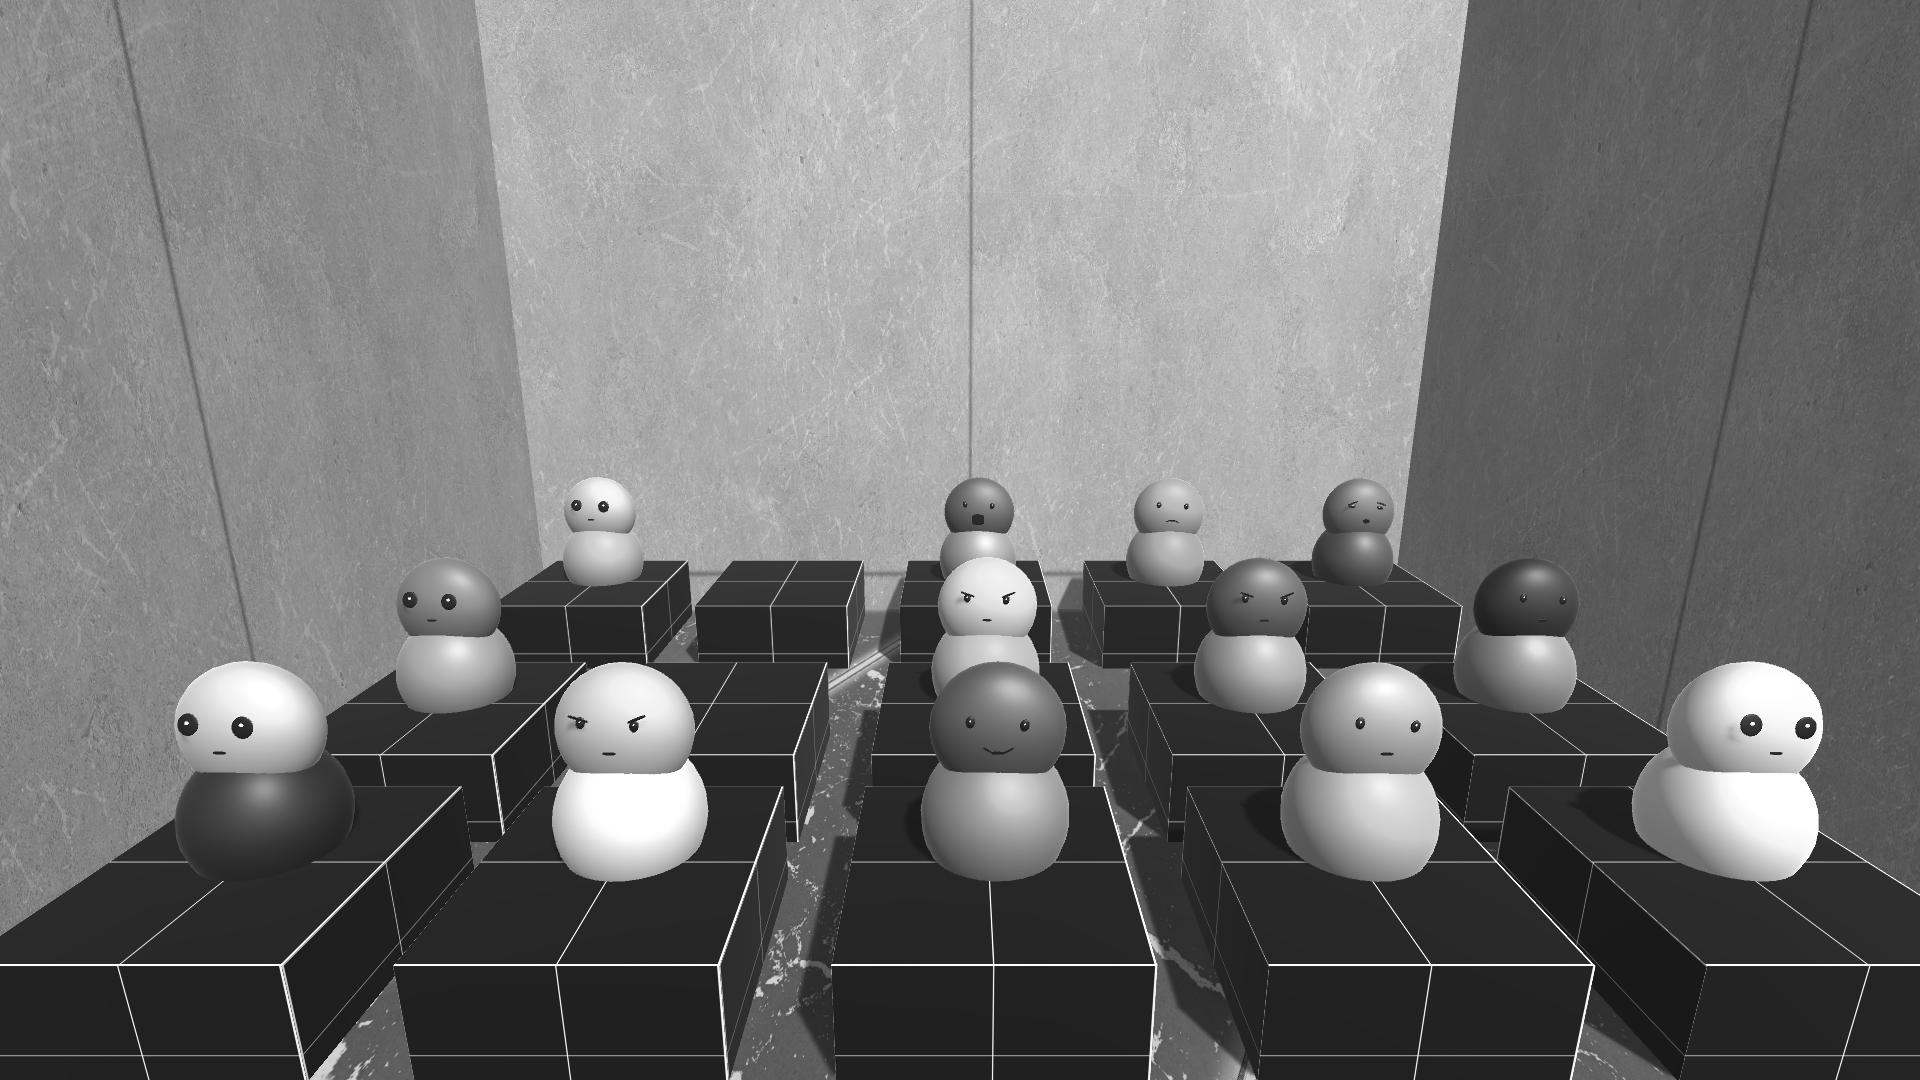blob_atento: (1619, 661, 1833, 894), (173, 659, 353, 873), (390, 560, 524, 720), (564, 464, 644, 580)
blob_entediado: (1316, 464, 1396, 607)
blob_feliz: (906, 655, 1077, 884)
blob_normal: (1280, 663, 1439, 886), (1456, 559, 1575, 742)
blob_raiva: (550, 665, 709, 881), (1193, 556, 1316, 731), (928, 560, 1054, 702)
blob_surpreso: (930, 473, 1026, 583)
blob_triste: (1120, 480, 1207, 603)
